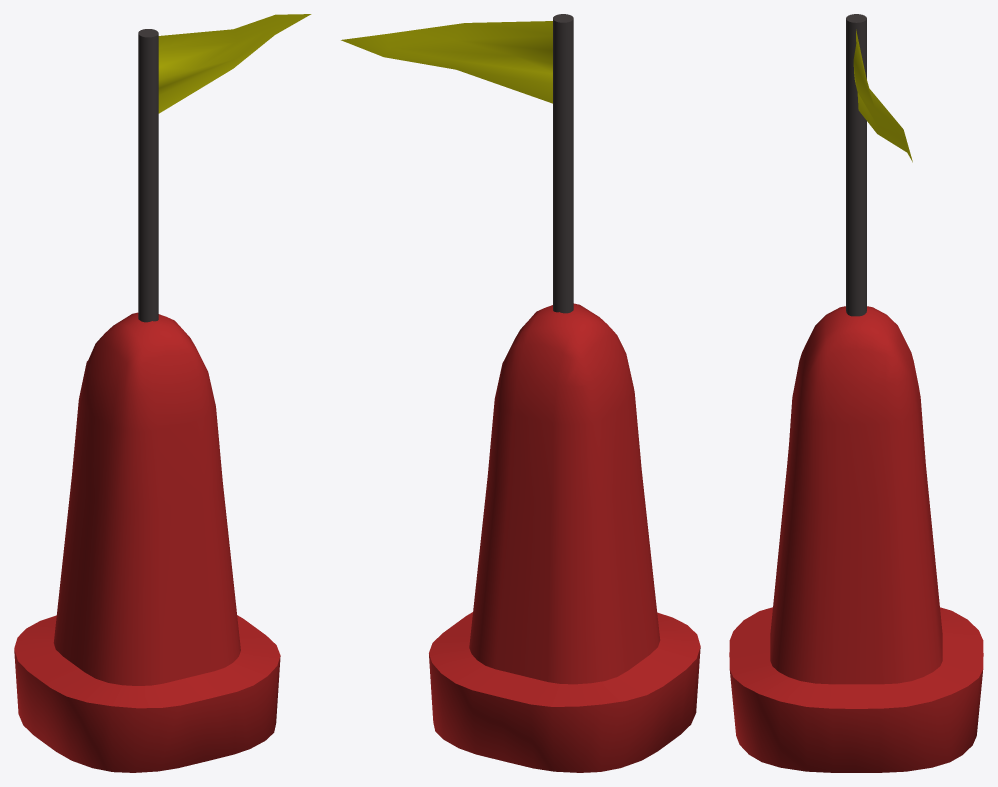
The model's file is Sailing buoy.fbx.
3 renders of one model, left to right at view 1: azimuth 30°, elevation 25°; view 2: azimuth 150°, elevation 25°; view 3: azimuth 270°, elevation 25°, orthographic. The views are drawn at different scales.
Parts seen in each view (by area): view 1: polySurface1, polySurface4, polySurface3; view 2: polySurface1, polySurface4, polySurface3; view 3: polySurface1, polySurface3, polySurface4.
Boxes of the visible parts, <box> form: polySurface1: <box>14,312,280,772</box>; polySurface4: <box>158,14,311,113</box>; polySurface3: <box>138,29,158,322</box>; polySurface1: <box>429,303,700,772</box>; polySurface4: <box>341,21,552,103</box>; polySurface3: <box>553,14,573,313</box>; polySurface1: <box>729,306,983,772</box>; polySurface3: <box>846,14,866,316</box>; polySurface4: <box>853,29,912,162</box>.
Size of the model in its own units: 19.66 by 43.61 by 14.03.
